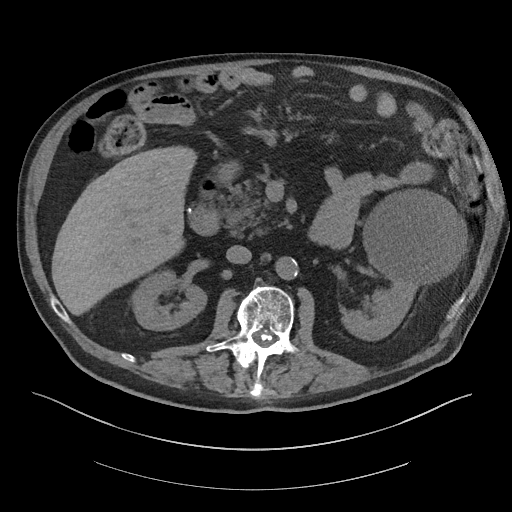Lesion: (357, 184, 475, 289)
